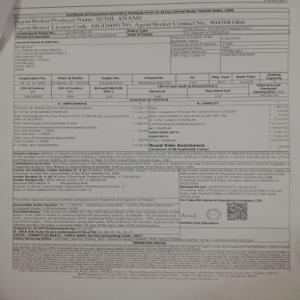table: (14, 6, 290, 100), (12, 100, 290, 150)
text: (13, 150, 290, 229)
